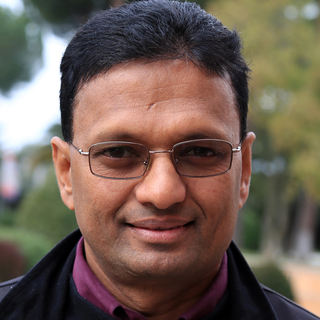eye: (94, 142, 142, 166), (176, 142, 223, 165)
